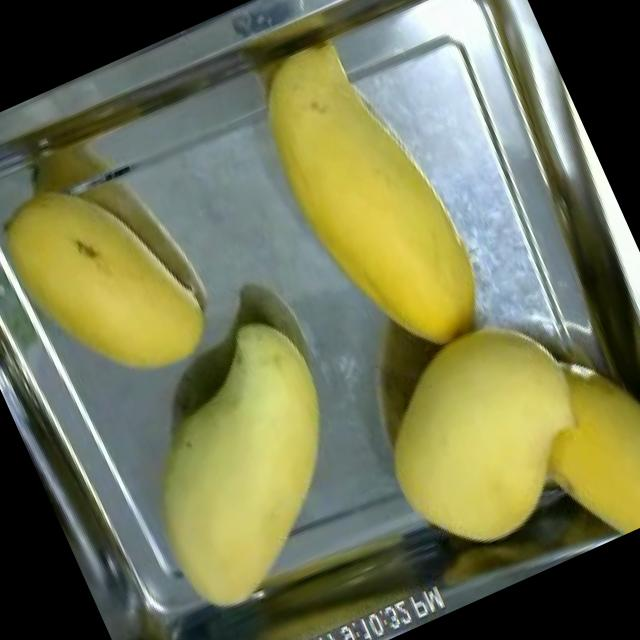fruit: (219, 6, 514, 392), (90, 316, 400, 635), (330, 272, 640, 589), (0, 135, 231, 424), (480, 290, 640, 560)
